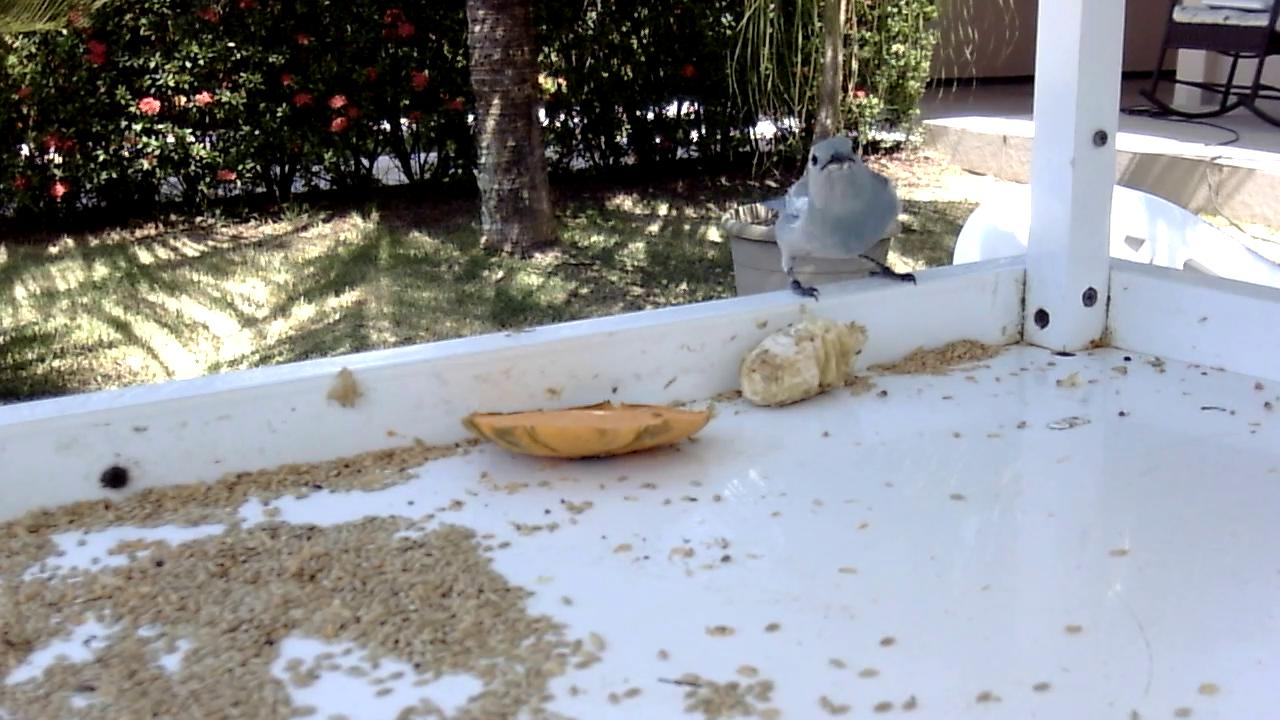sanhaco_da_amazonia: (759, 135, 918, 303)
